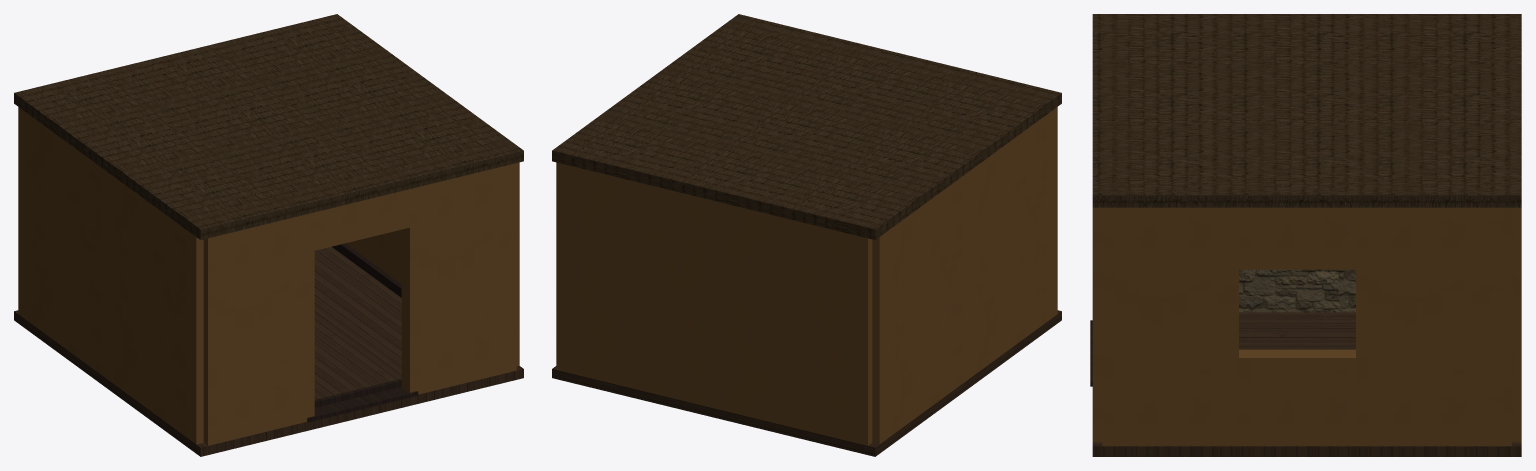
The model's file is int_forest_cottage_01.glb.
3 renders of one model, left to right at view 1: azimuth 30°, elevation 25°; view 2: azimuth 150°, elevation 25°; view 3: azimuth 270°, elevation 25°, orthographic. The views are drawn at different scales.
Visible parts, largest first — view 1: int_forest_cottage_01; view 2: int_forest_cottage_01; view 3: int_forest_cottage_01.
Boxes of the visible parts, <box> form: int_forest_cottage_01: <box>14,14,523,456</box>; int_forest_cottage_01: <box>552,14,1061,456</box>; int_forest_cottage_01: <box>1090,14,1521,456</box>.
Bounding box in the file's own units: 4.4 × 2.96 × 4.42.
Materials: 6 (5 with a texture image).
